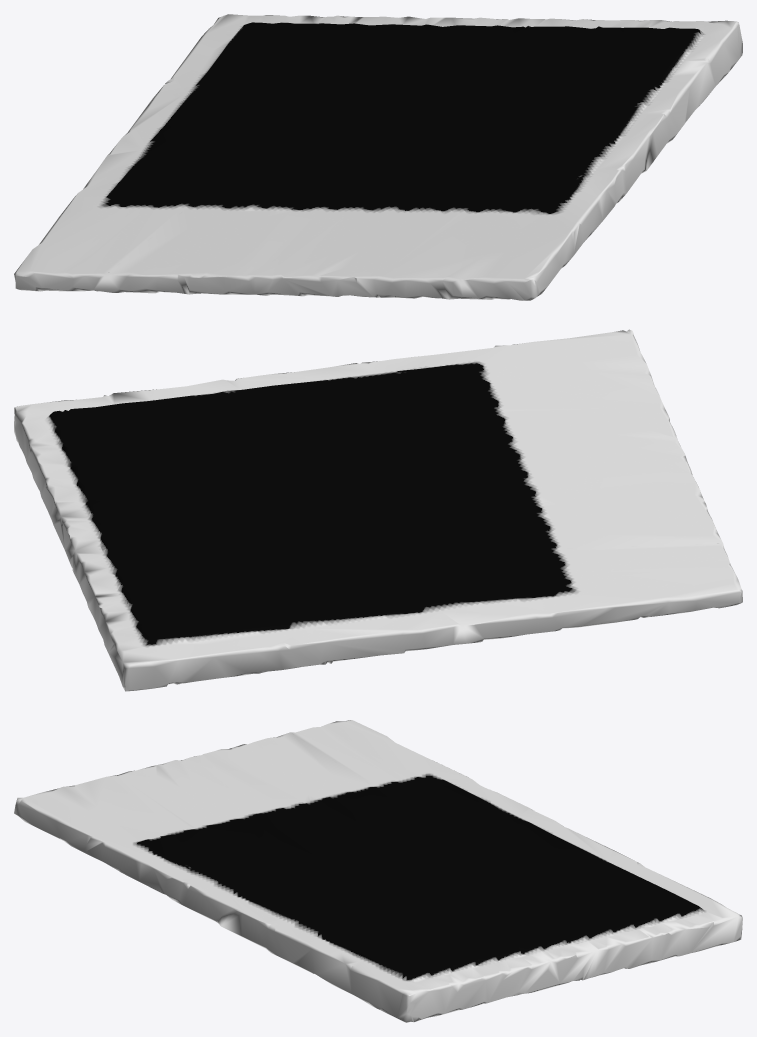
File: Polaroid_LOD1.fbx
3 renders of one model, top to bottom at view 1: azimuth 30°, elevation 25°; view 2: azimuth 150°, elevation 25°; view 3: azimuth 270°, elevation 25°, orthographic. The views are drawn at different scales.
Parts seen in each view (by area): view 1: Layer_1; view 2: Layer_1; view 3: Layer_1.
Part boxes in pixels (bbox=[...]): Layer_1: bbox=[14, 14, 742, 300]; Layer_1: bbox=[14, 329, 742, 691]; Layer_1: bbox=[14, 720, 742, 1022].
Bounding box in the file's own units: 0.36 × 0.3551 × 0.0499.
1 material, 1 textured.
